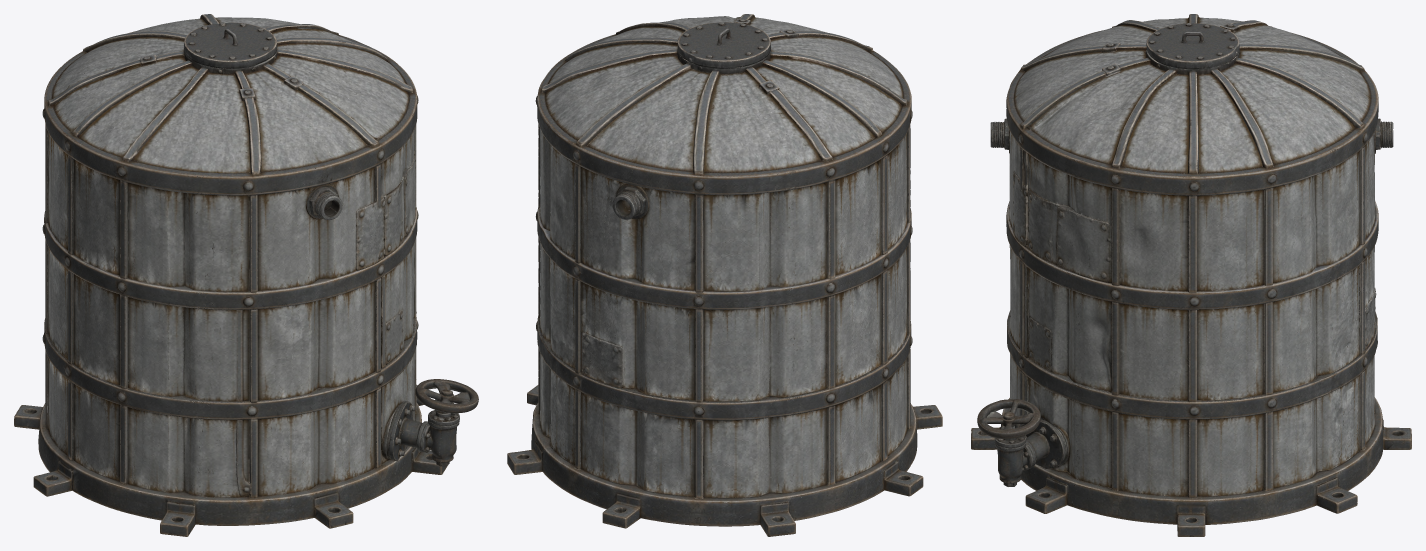
The model's file is tank_steel.glb.
3 views of the same model, side by side, from view 1: azimuth 30°, elevation 25°; view 2: azimuth 150°, elevation 25°; view 3: azimuth 270°, elevation 25° (orthographic).
Visible parts, largest first — view 1: tank_steel; view 2: tank_steel; view 3: tank_steel.
Boxes of the visible parts, <box> form: tank_steel: <box>14,14,478,536</box>; tank_steel: <box>507,14,942,536</box>; tank_steel: <box>971,14,1411,536</box>.
Size of the model in its own units: 184 by 190 by 184.
1 material, 1 textured.
